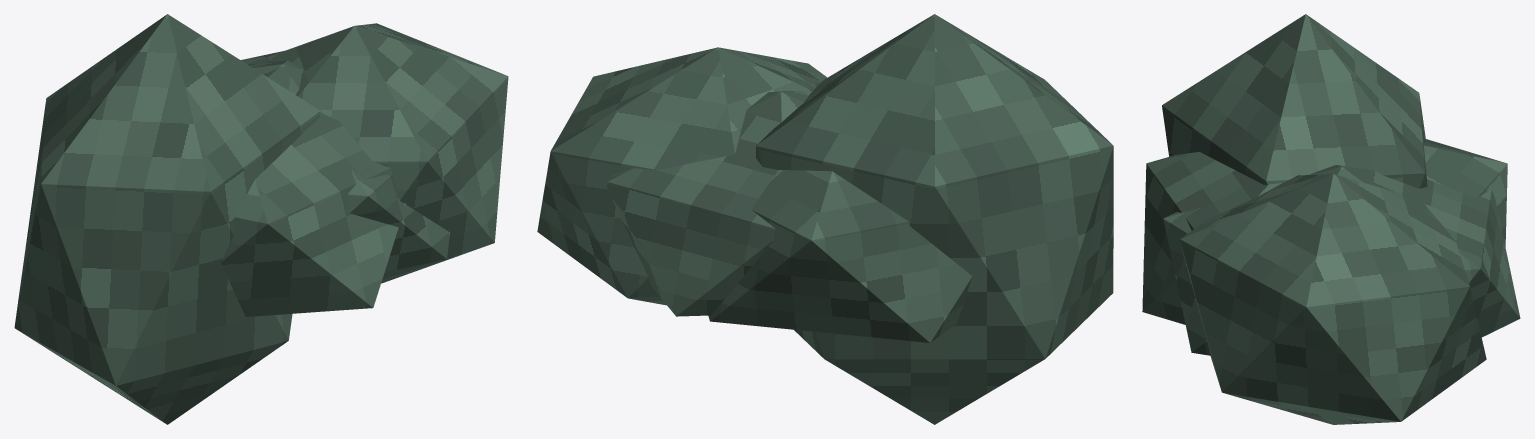
Rendered from ruin_51.glb.
3 views of the same model, side by side, from view 1: azimuth 30°, elevation 25°; view 2: azimuth 150°, elevation 25°; view 3: azimuth 270°, elevation 25° (orthographic). The views are drawn at different scales.
Parts seen in each view (by area): view 1: WeatheredStone, WeatheredStone.003, WeatheredStone.001, WeatheredStone.002; view 2: WeatheredStone, WeatheredStone.003, WeatheredStone.001, WeatheredStone.002; view 3: WeatheredStone.003, WeatheredStone, WeatheredStone.001, WeatheredStone.002.
Part boxes in pixels (box(x1,y1,x2,y2)): WeatheredStone: box(14, 14, 320, 424); WeatheredStone.003: box(247, 23, 508, 283); WeatheredStone.001: box(220, 112, 406, 316); WeatheredStone.002: box(241, 51, 449, 272); WeatheredStone: box(756, 14, 1113, 424); WeatheredStone.003: box(537, 47, 827, 305); WeatheredStone.001: box(708, 83, 972, 342); WeatheredStone.002: box(607, 90, 809, 316); WeatheredStone.003: box(1180, 174, 1486, 424); WeatheredStone: box(1162, 14, 1427, 188); WeatheredStone.001: box(1142, 139, 1507, 324); WeatheredStone.002: box(1163, 165, 1520, 355).
Bounding box in the file's own units: 3.34 × 2.63 × 2.33.
1 material, 1 textured.
